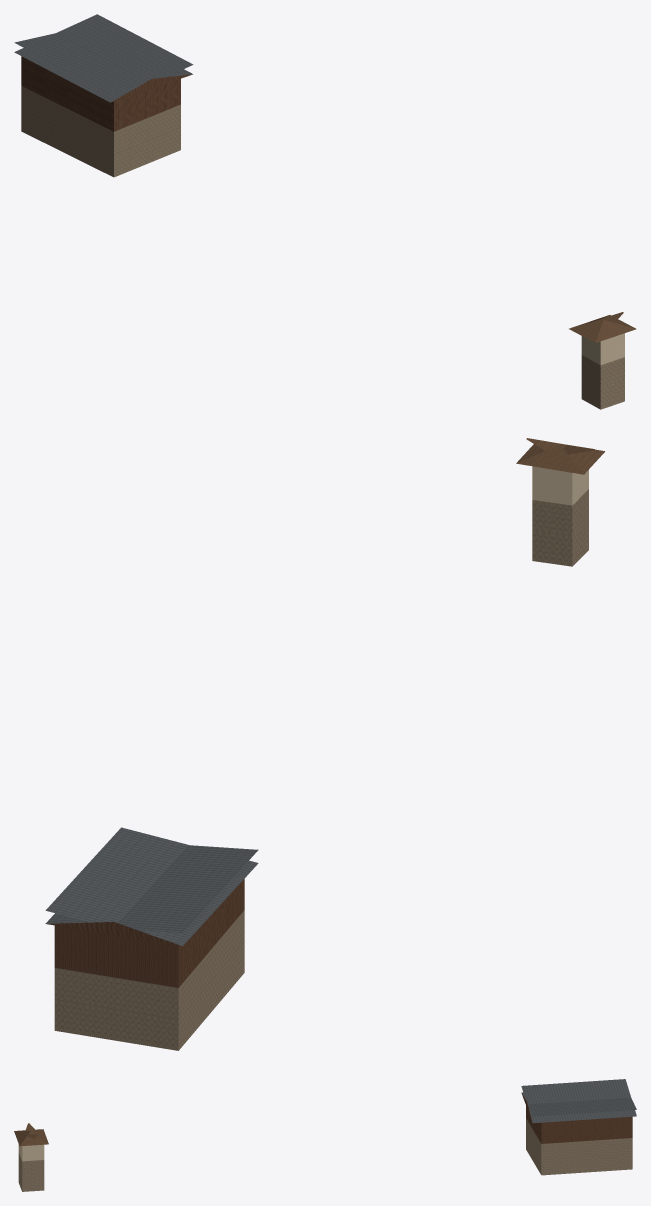
Rendered from bld_c32_44_243.gltf.
3 views of the same model, one above another, from view 1: azimuth 30°, elevation 25°; view 2: azimuth 150°, elevation 25°; view 3: azimuth 270°, elevation 25° (orthographic). The views are drawn at different scales.
Visible parts, largest first — view 1: bld_c32_44_243; view 2: bld_c32_44_243; view 3: bld_c32_44_243.
Boxes of the visible parts, left/top/right/bottom form: bld_c32_44_243: left=14, top=14, right=636, bottom=409; bld_c32_44_243: left=45, top=438, right=604, bottom=1050; bld_c32_44_243: left=14, top=1079, right=636, bottom=1191.
Bounding box in the file's own units: 19.85 × 9.3 × 85.24.
Materials: 6 (6 with a texture image).
